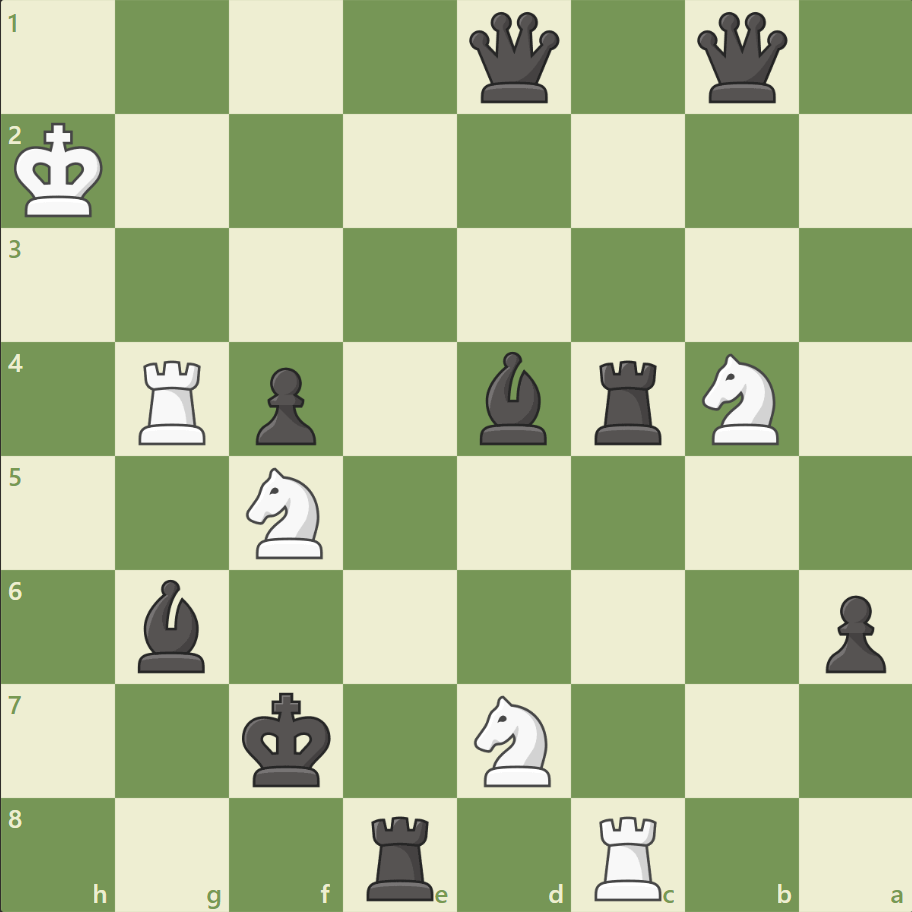K: (11, 117, 111, 225)
N: (465, 688, 562, 791), (238, 461, 335, 564), (692, 348, 789, 450)
R: (587, 806, 670, 904), (133, 352, 215, 449)
b: (131, 574, 215, 676), (471, 347, 555, 449)
k: (238, 685, 338, 793)
p: (247, 359, 322, 450), (815, 586, 889, 677)
q: (691, 9, 790, 108), (464, 9, 563, 108)
r: (587, 352, 670, 449), (360, 806, 442, 904)
